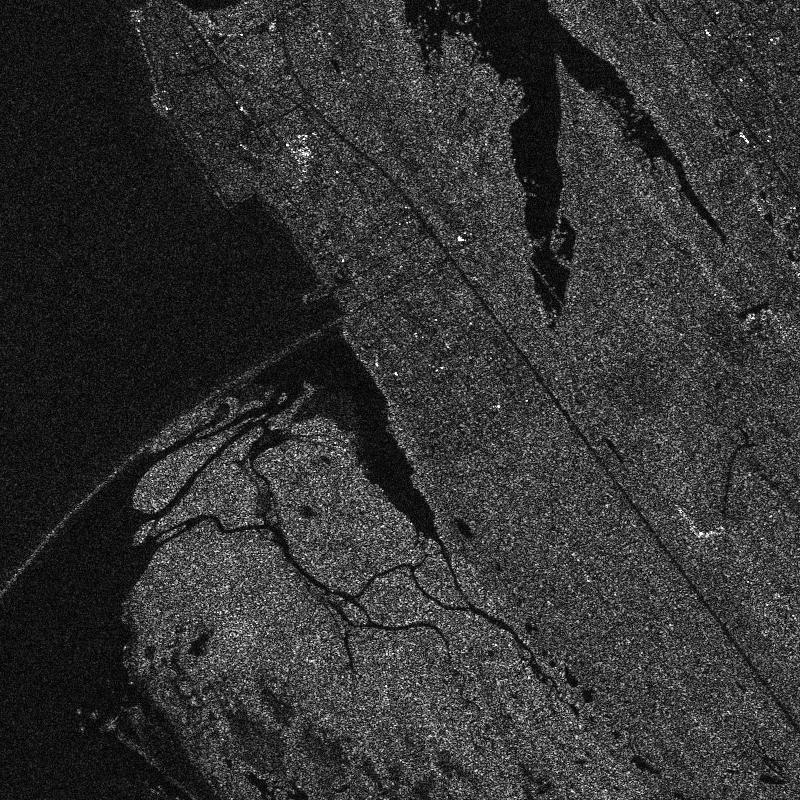land: (591, 11, 787, 782), (182, 476, 555, 791), (159, 10, 521, 191), (389, 214, 534, 534)
sea: (11, 15, 113, 783), (122, 231, 287, 374)
